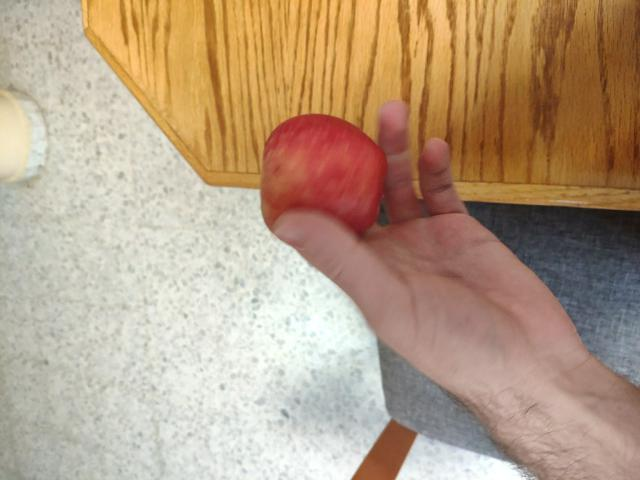apple: (258, 115, 388, 254)
